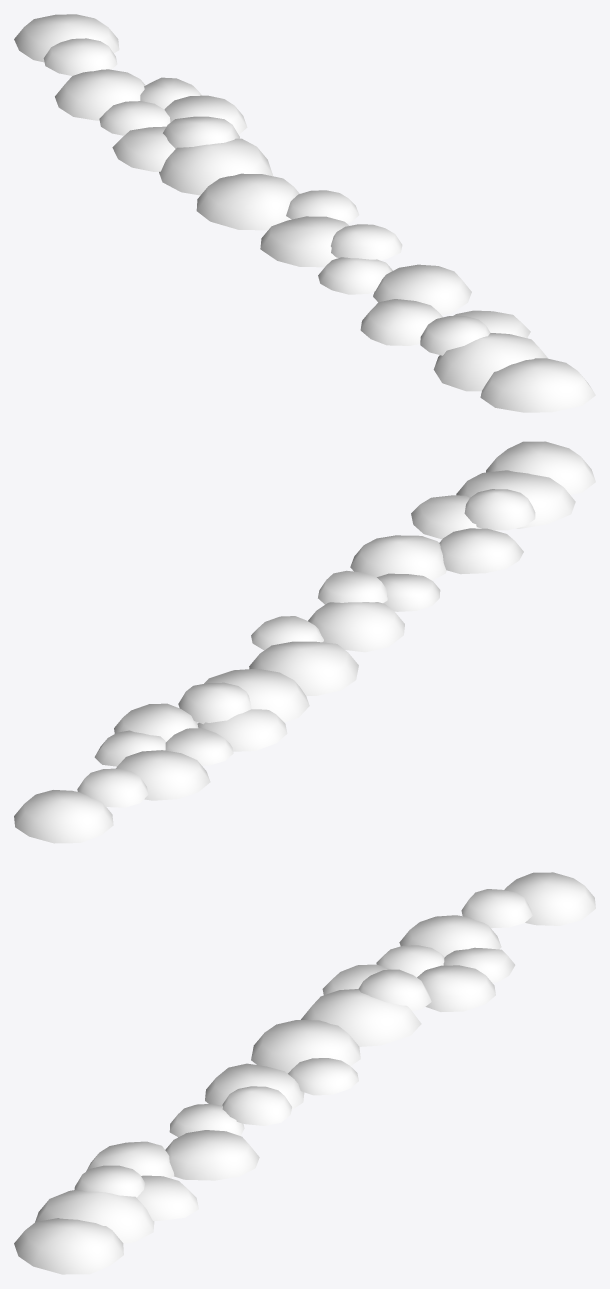
The model's file is SM_Prop_Bush_Round_Row_01.glb.
3 views of the same model, one above another, from view 1: azimuth 30°, elevation 25°; view 2: azimuth 150°, elevation 25°; view 3: azimuth 330°, elevation 25° (orthographic).
Visible parts, largest first — view 1: SM_Prop_Bush_Round_Row_01; view 2: SM_Prop_Bush_Round_Row_01; view 3: SM_Prop_Bush_Round_Row_01.
Part boxes in pixels (x1,y1,x2,y2): SM_Prop_Bush_Round_Row_01: (14, 14, 595, 412); SM_Prop_Bush_Round_Row_01: (14, 441, 595, 843); SM_Prop_Bush_Round_Row_01: (14, 872, 595, 1274).
Bounding box in the file's own units: 1.11 × 0.2188 × 7.27.
1 material, 1 textured.
